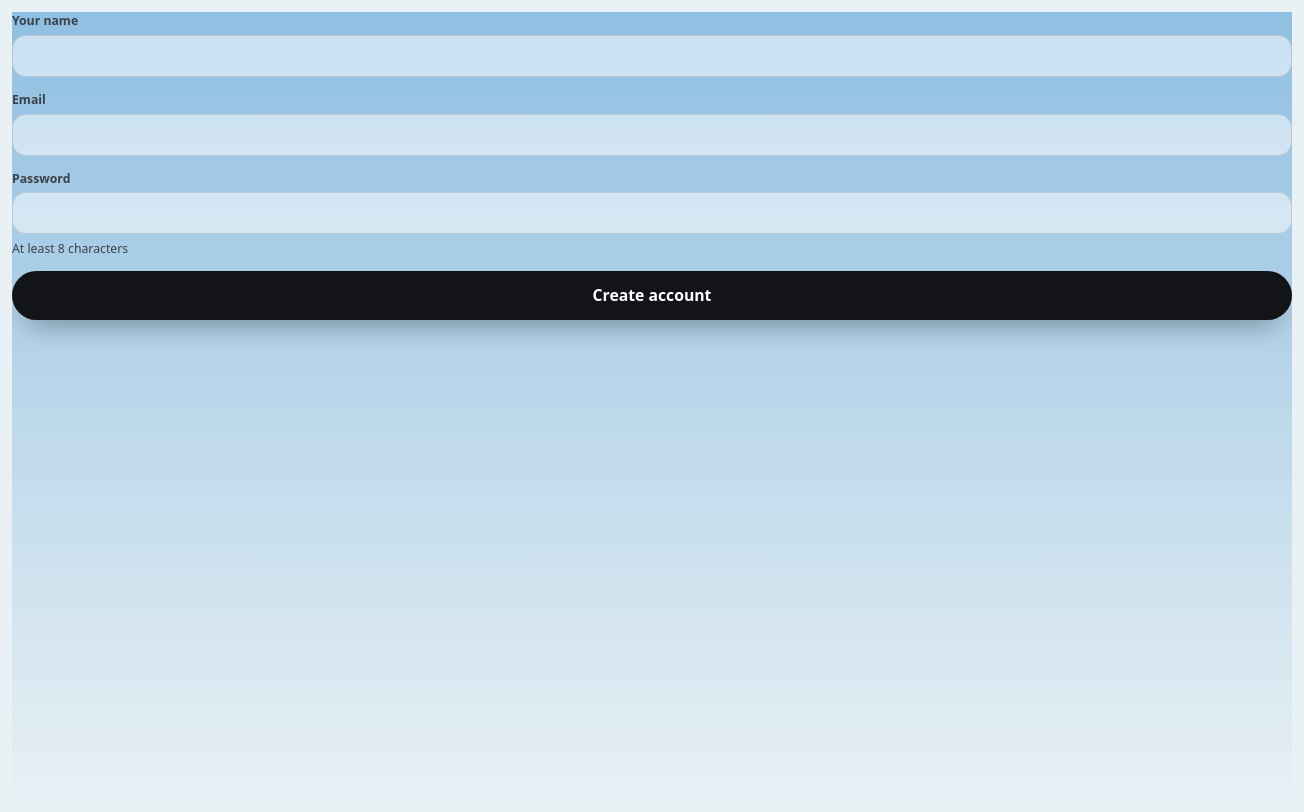
Test case: SignupForm › creates an account and lands on the passport page
Type "Riya Sharma" into the field labelled "Your name".
click(652, 56); type("Riya Sharma")  # box [12,35,1292,77]
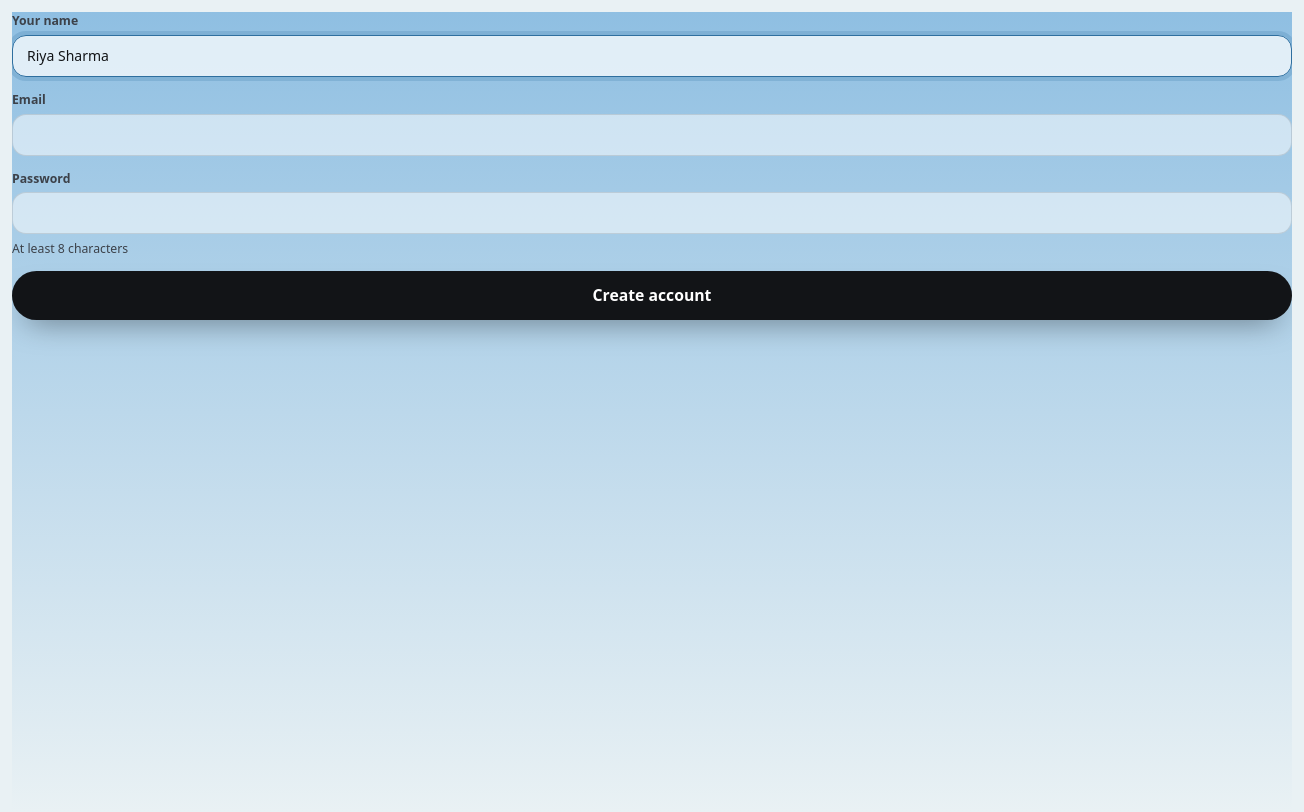
Type "riya@example.com" into the field labelled "Email".
click(652, 134); type("riya@example.com")  # box [12,114,1292,156]
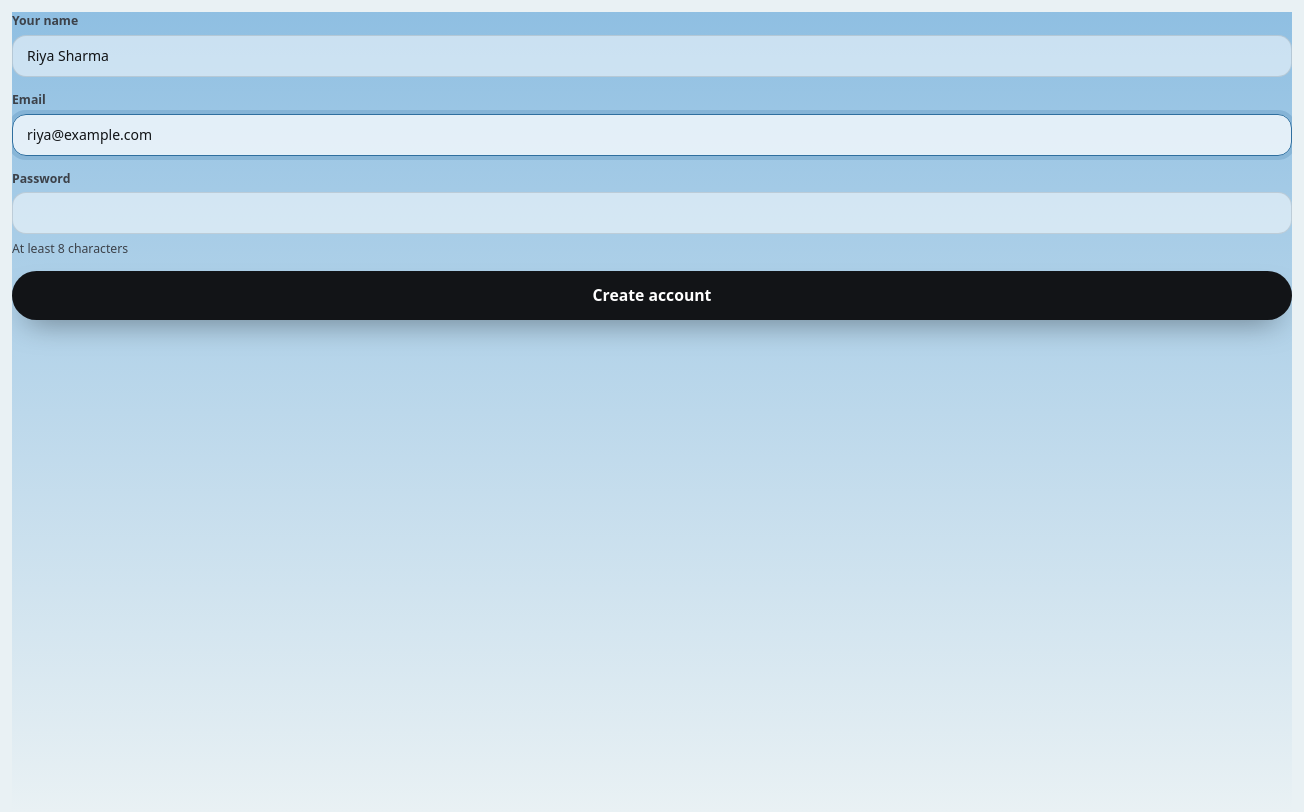
Type "wanderlust1" into the password field labelled "Password".
click(652, 213); type("wanderlust1")  # box [12,192,1292,234]
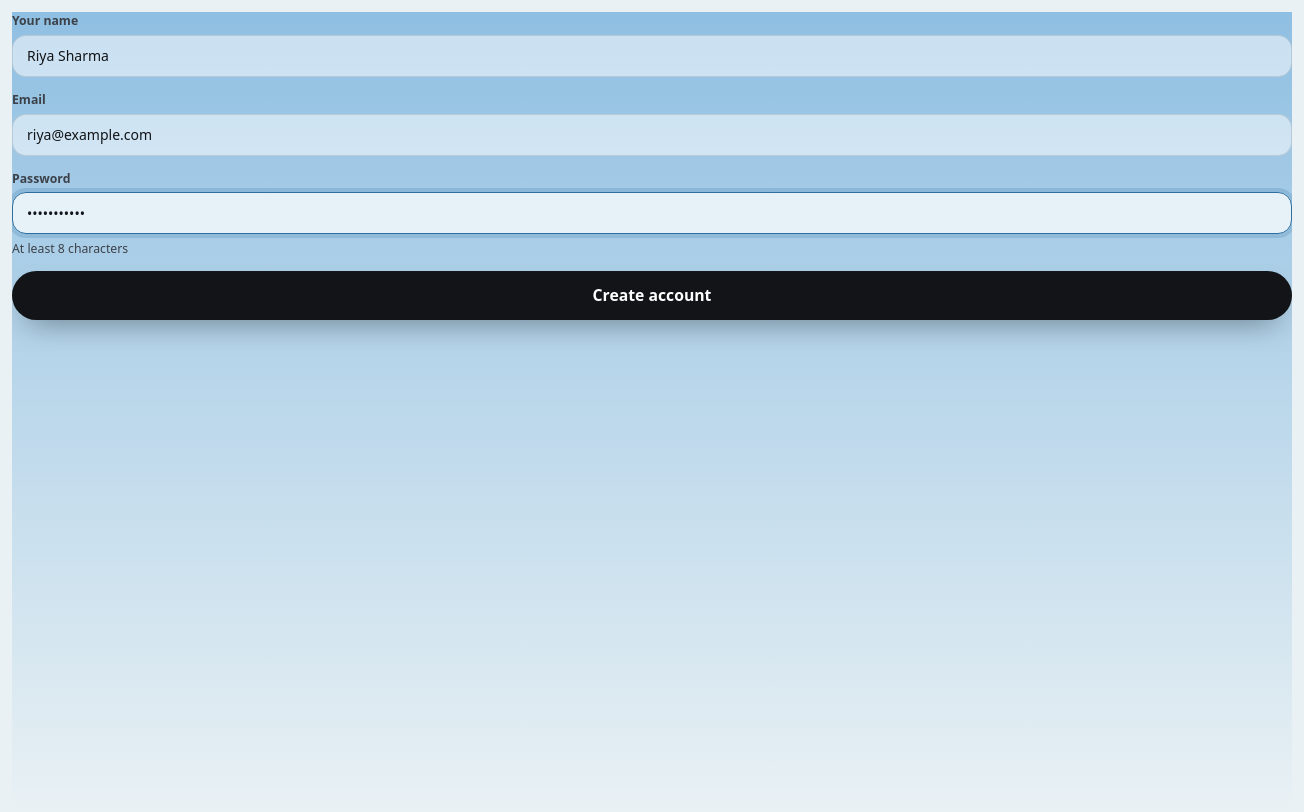
Click the button "Create account".
click(652, 296)  # box [12,271,1292,320]
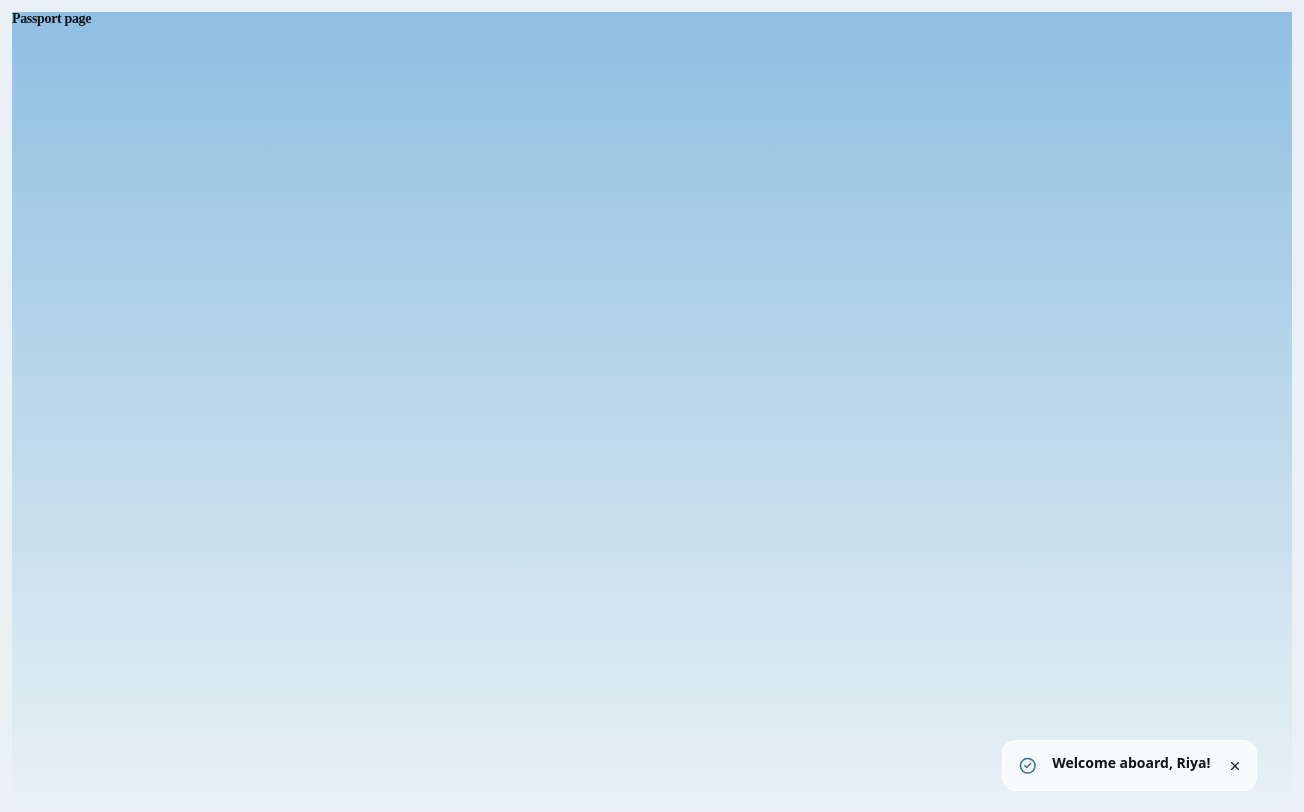
Now the heading "Passport page" is shown, box [12,11,91,26]
